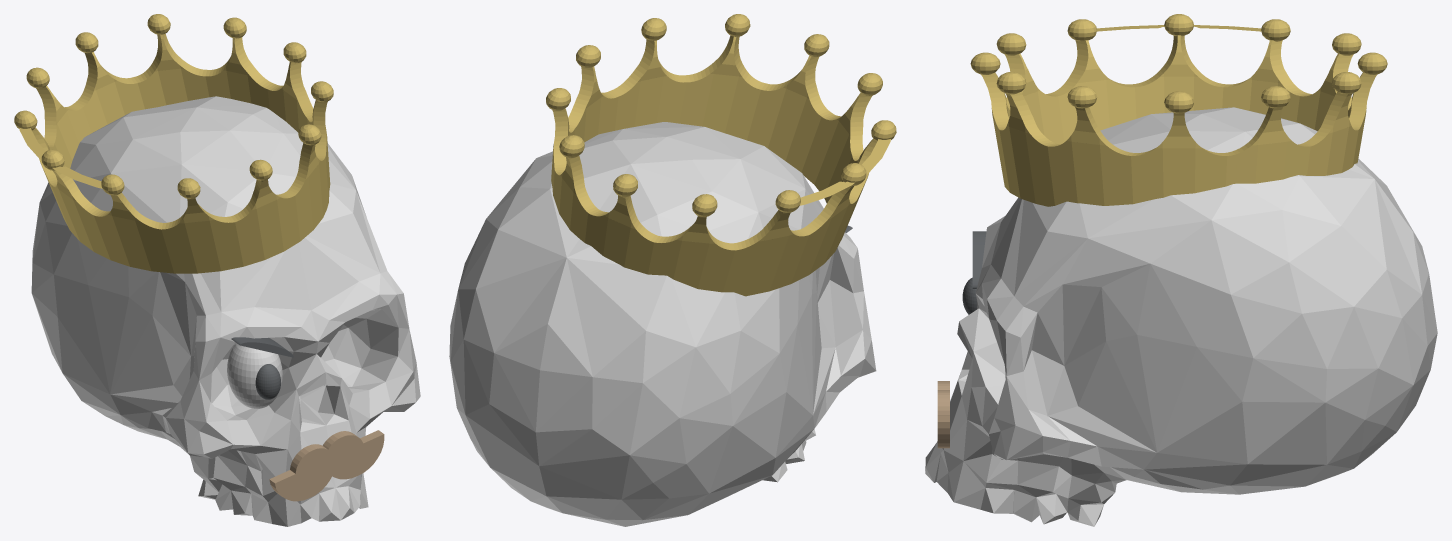
The picture shows the model from 3 angles, left to right: view 1: azimuth 30°, elevation 25°; view 2: azimuth 150°, elevation 25°; view 3: azimuth 270°, elevation 25°; orthographic projection. The views are drawn at different scales.
Visible parts, largest first — view 1: Mesh_Mesh_head_geo.001_lambert2SG.001; view 2: Mesh_Mesh_head_geo.001_lambert2SG.001; view 3: Mesh_Mesh_head_geo.001_lambert2SG.001.
Boxes of the visible parts, box(x1,y1,x2,y2) form: Mesh_Mesh_head_geo.001_lambert2SG.001: box(14, 14, 420, 526); Mesh_Mesh_head_geo.001_lambert2SG.001: box(449, 14, 896, 526); Mesh_Mesh_head_geo.001_lambert2SG.001: box(925, 14, 1437, 526).
Size of the model in its own units: 0.3312 by 0.385 by 0.4089.
